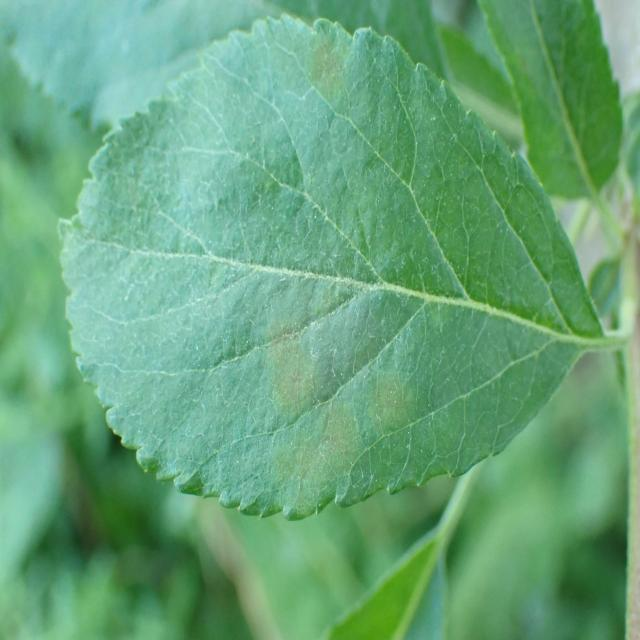scab: (229, 22, 502, 524)
